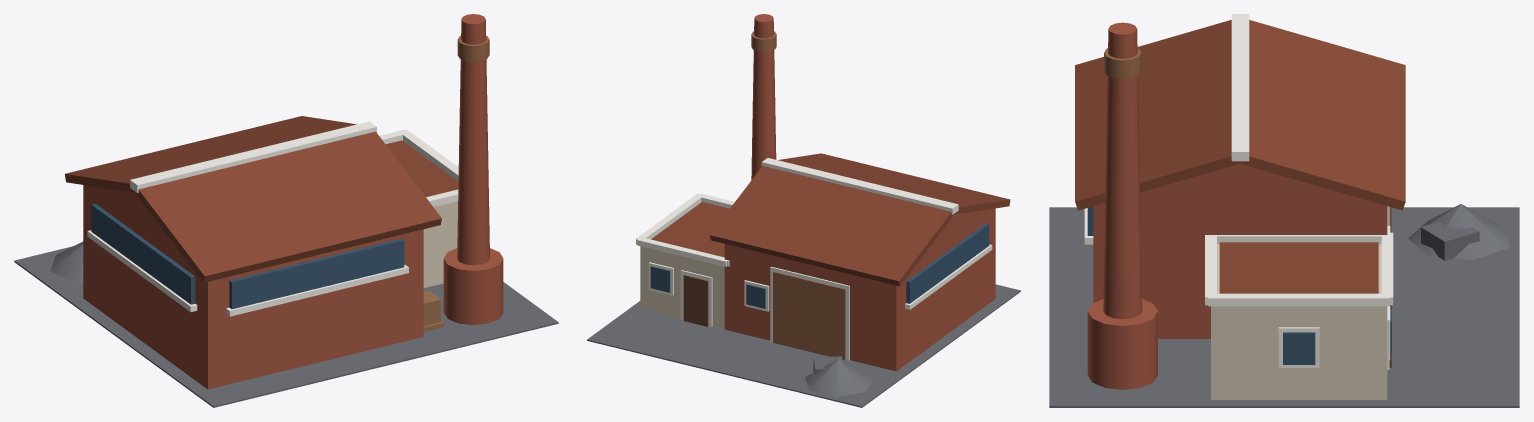
The picture shows the model from 3 angles, left to right: view 1: azimuth 30°, elevation 25°; view 2: azimuth 150°, elevation 25°; view 3: azimuth 270°, elevation 25°; orthographic projection. The views are drawn at different scales.
Parts seen in each view (by area): view 1: roof (×3), hall, yard, window_band (×2), smoke_stack, stack_base, ridge, sill (×2), office, gable, heap, parapet (+2 smaller); view 2: roof (×3), hall, yard, garage_door, office, smoke_stack, window_band, ridge, heap, parapet (×2), door, garage_door_frame (+5 smaller); view 3: roof (×3), yard, hall, office, smoke_stack, parapet (×4), stack_base, gable, heap (×2), ridge, window_glass, stack_band (+1 smaller).
Part boxes in pixels (box(x1,y1,x2,y2)): roof (×3): box(65, 116, 458, 282); hall: box(83, 185, 423, 389); yard: box(14, 246, 558, 407); window_band (×2): box(91, 203, 404, 309); smoke_stack: box(457, 14, 489, 265); stack_base: box(443, 248, 503, 325); ridge: box(130, 121, 376, 192); sill (×2): box(87, 230, 408, 316); office: box(423, 201, 457, 287); gable: box(90, 186, 178, 250); heap: box(50, 241, 83, 283); parapet: box(403, 130, 458, 181); roof (×3): box(651, 153, 1010, 286); hall: box(724, 208, 995, 371); yard: box(587, 284, 1020, 407); garage_door: box(773, 271, 845, 360); office: box(640, 246, 724, 329); smoke_stack: box(751, 14, 776, 179); window_band: box(906, 223, 989, 303); ridge: box(761, 158, 958, 214); heap: box(805, 358, 873, 396); parapet (×2): box(636, 193, 727, 266); door: box(683, 275, 708, 326); garage_door_frame: box(770, 266, 849, 360); roof (×3): box(1075, 20, 1405, 293); yard: box(1049, 207, 1519, 407); hall: box(1093, 200, 1387, 338); office: box(1211, 244, 1387, 399); smoke_stack: box(1103, 22, 1142, 319); parapet (×4): box(1205, 231, 1393, 306); stack_base: box(1087, 299, 1157, 389); gable: box(1140, 163, 1365, 200); heap (×2): box(1408, 204, 1508, 260); ridge: box(1231, 14, 1249, 161); window_glass: box(1283, 332, 1315, 364); stack_band: box(1104, 48, 1141, 79).
Size of the model in its own units: 16 by 13.07 by 16.
